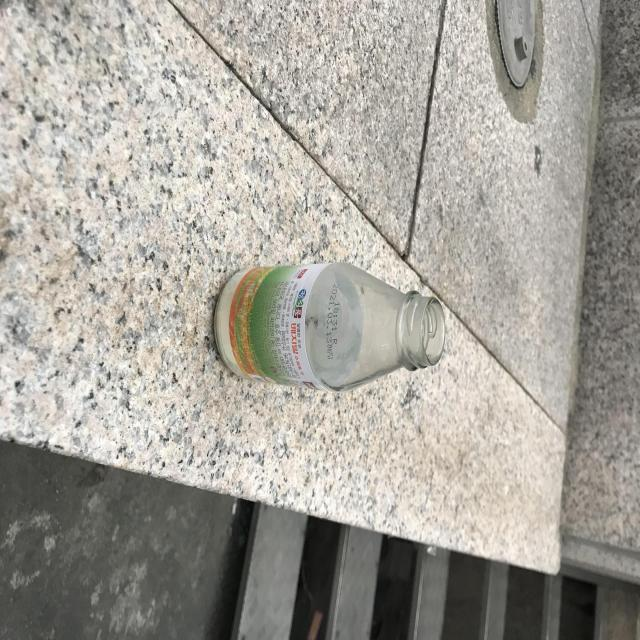glass: (214, 263, 445, 391)
